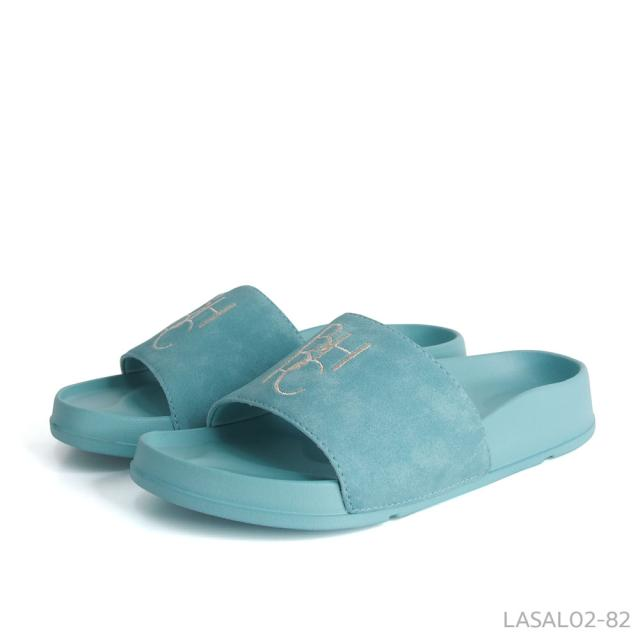Sandals: (45, 259, 608, 561)
